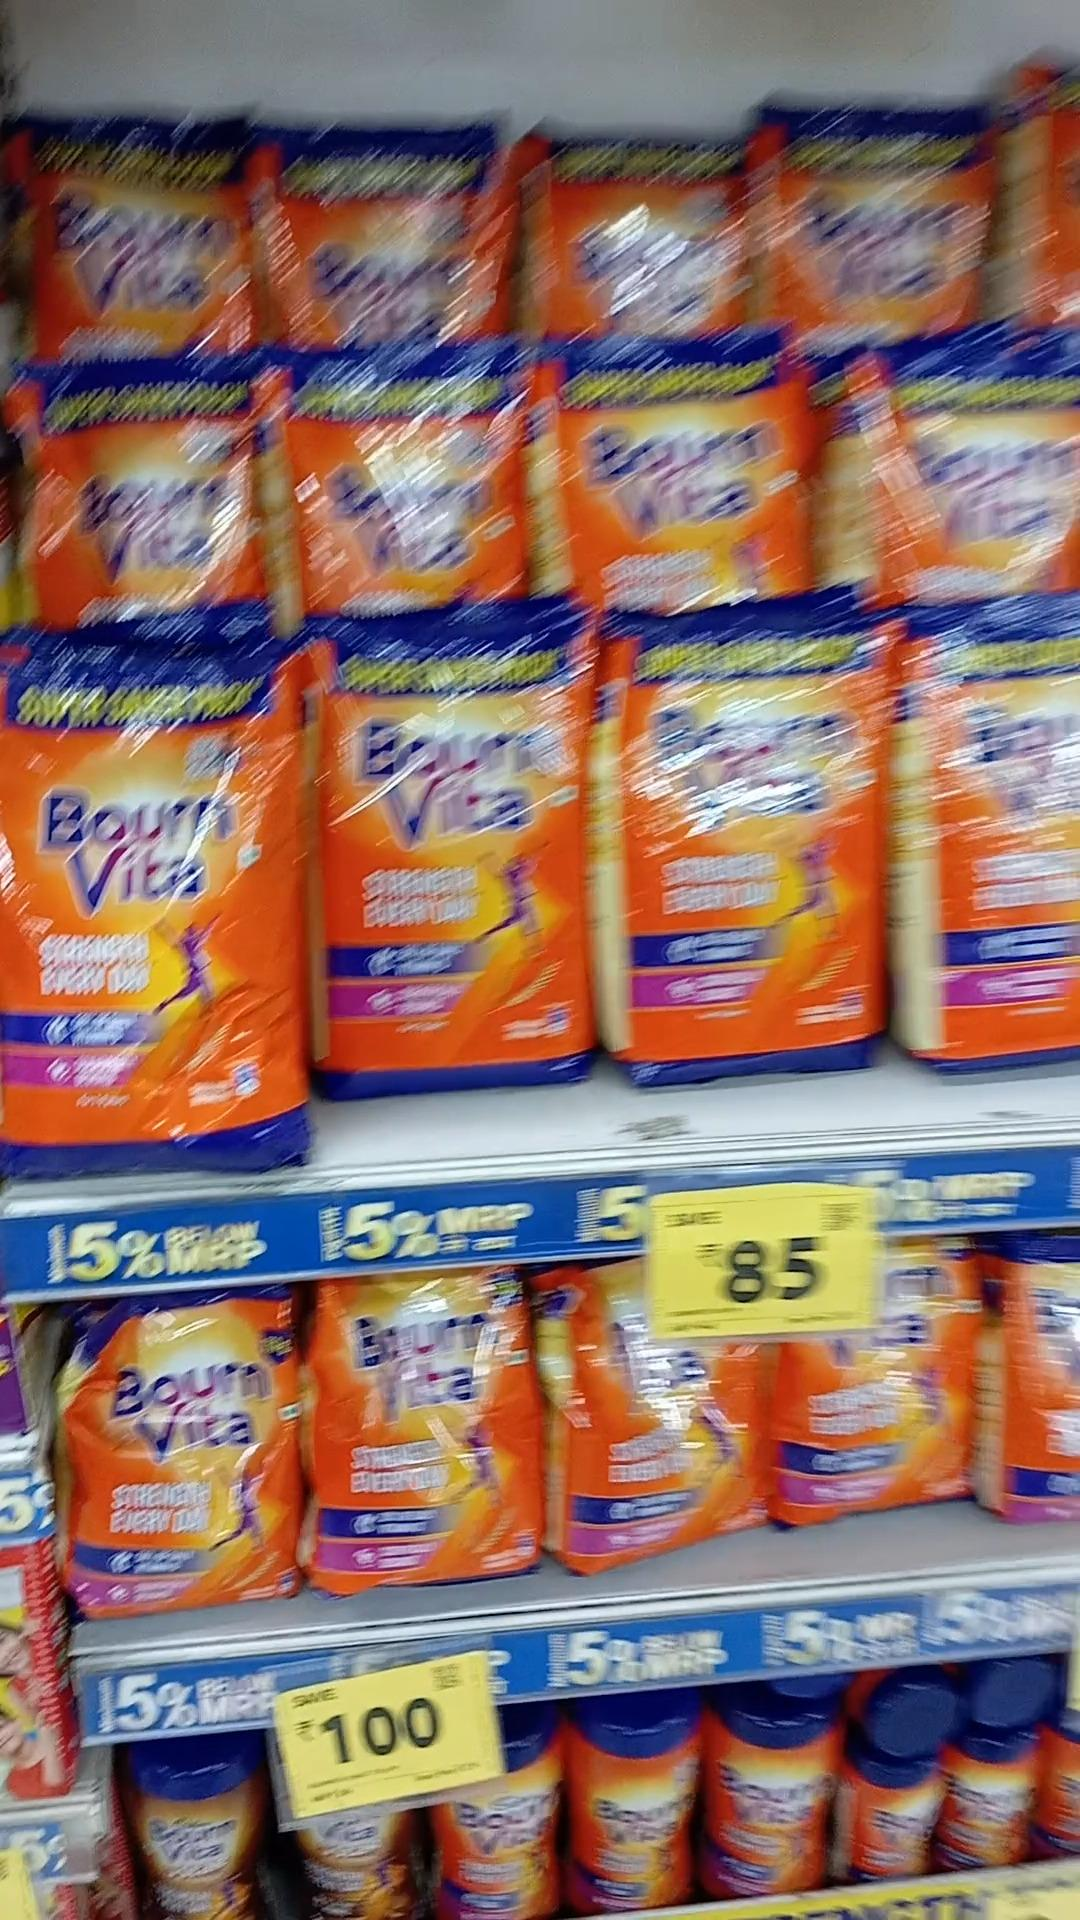BOURN_VITA_500_G_JAR: (707, 1700, 824, 1904), (570, 1710, 687, 1907), (444, 1738, 564, 1920)
BOURN_VITA_750_G_POUCH: (65, 1288, 291, 1609), (309, 1275, 522, 1581), (583, 1271, 750, 1556)
BOURN_VITA_FIVE_STAR_MAGIC_500_G_JAR: (138, 1734, 256, 1920), (291, 1805, 406, 1920)
